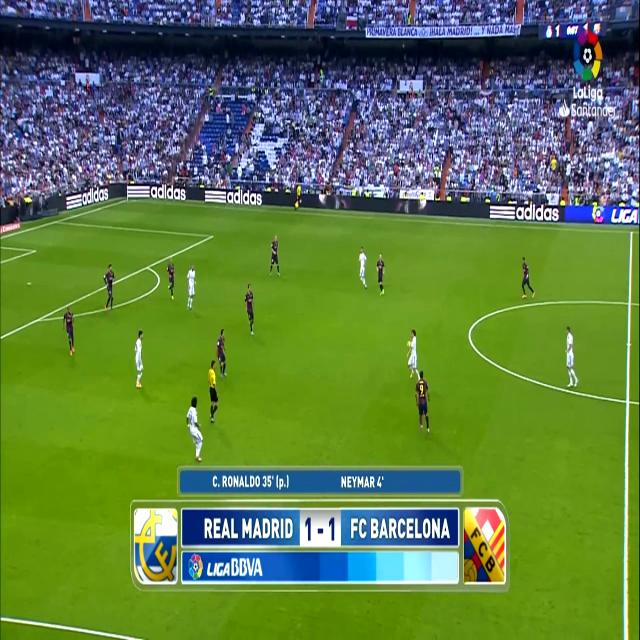bigarea_bottom_inner: (501, 579, 512, 599)
halfcircle_bottom: (622, 387, 634, 414)
halfcircle_top: (624, 291, 635, 314)
midline_top_intersection: (627, 224, 636, 240)
